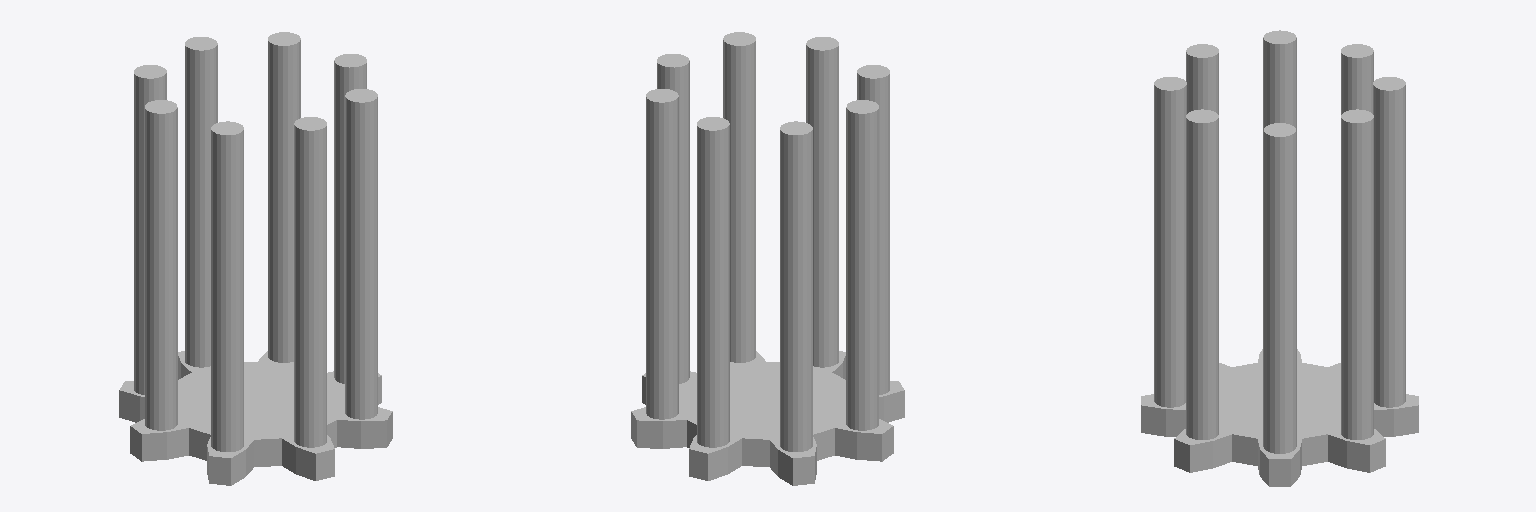
The model's file is planetPinion.obj.
3 views of the same model, side by side, from view 1: azimuth 30°, elevation 25°; view 2: azimuth 150°, elevation 25°; view 3: azimuth 270°, elevation 25° (orthographic).
Parts seen in each view (by area): view 1: planetPinion; view 2: planetPinion; view 3: planetPinion.
Part boxes in pixels (x1,y1,x2,y2): planetPinion: (119,32,392,485); planetPinion: (631,32,904,485); planetPinion: (1141,30,1418,486).
Bounding box in the file's own units: 1.14 × 1.56 × 1.14.